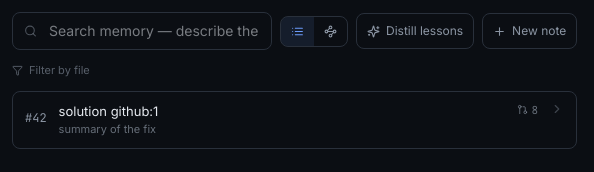
Test case: MemoryBrowser — search › surfaces a failed search and retries on demand
Expected: the text "solution github:1" is shown, [59, 102, 158, 118]
Type "oauth" into the field with placeholder "Search memory — describe the problem…" at point(142, 31), box [12, 12, 272, 50]
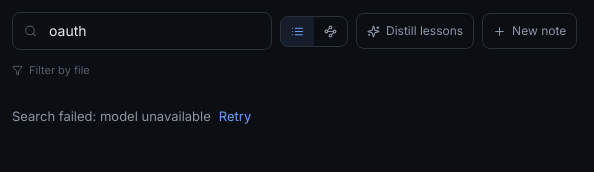
Expected: the text "Search failed: model unavailable" is shown, [12, 106, 211, 126]
Click the button "Retry" at point(235, 116), box [219, 106, 251, 126]
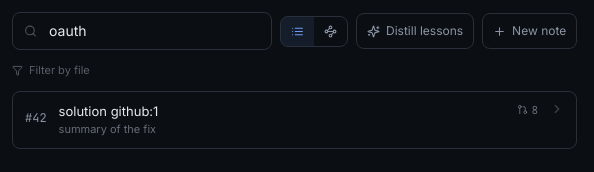
Expected: the text "Search failed" is gone
